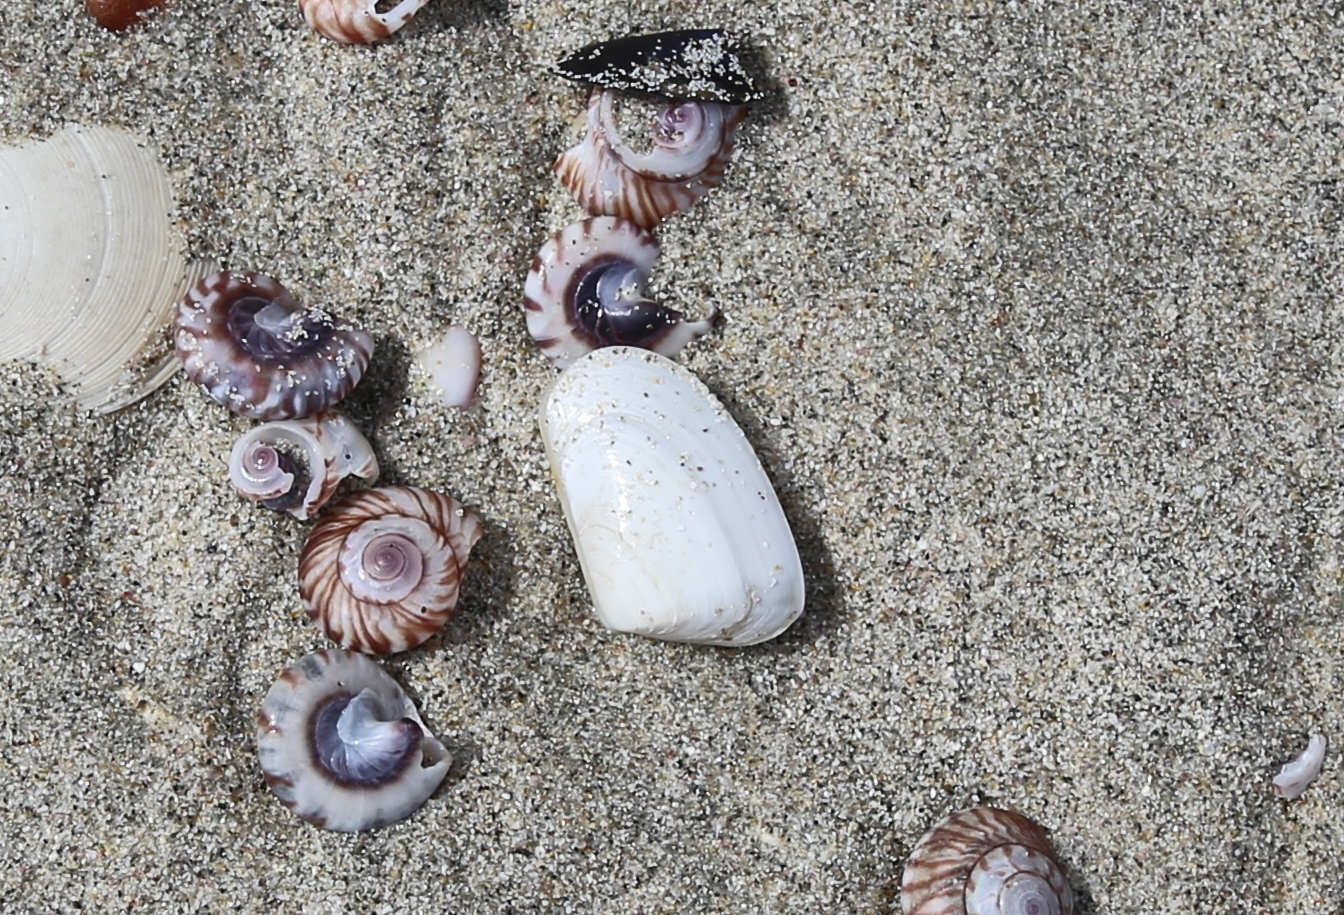tuatua: (538, 342, 816, 657)
